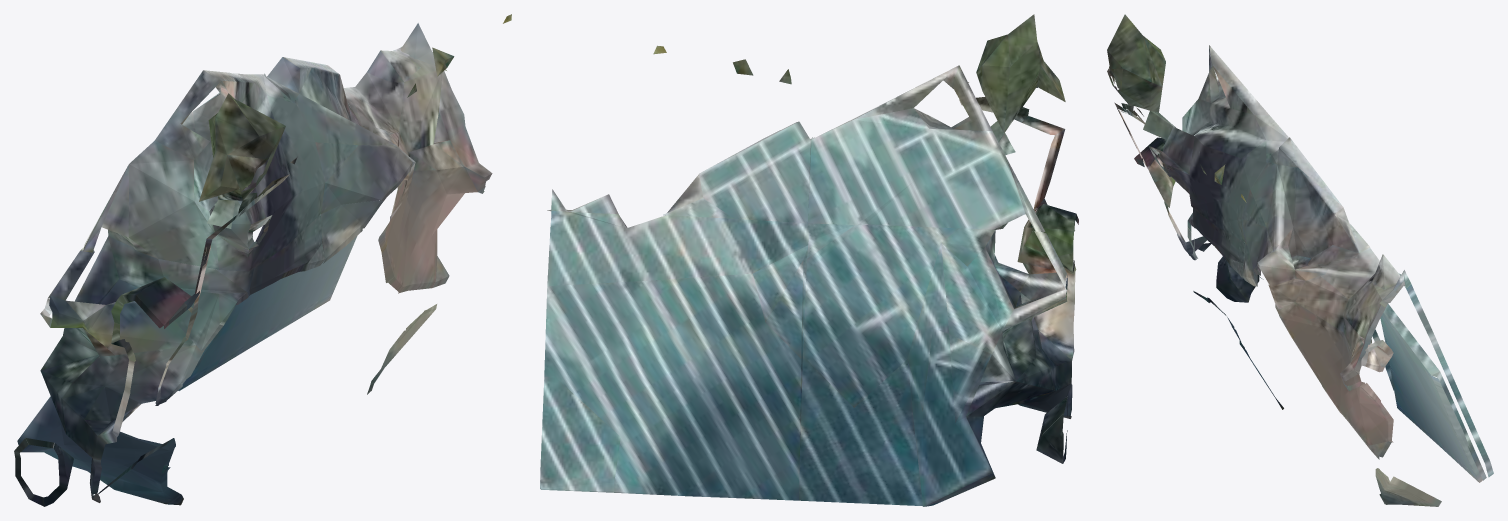
The model's file is AJVsH2wfIp2evZ7dvcl3jIcB1fm8jHz2ZJpCEV4RWAvKukdU6bj9J4GZnqO3EjtML10TwGIkM4Asqym2iY29AE9vIDwmOnXWCcJo3GrYyWuxd86dhjHvzEdkCZoEFWqcsGLNNXJWIvOu5T1MCHO_BIr-zYlT.glb.
3 views of the same model, side by side, from view 1: azimuth 30°, elevation 25°; view 2: azimuth 150°, elevation 25°; view 3: azimuth 270°, elevation 25° (orthographic). The views are drawn at different scales.
Bounding box in the file's own units: 35.89 × 32.53 × 30.29.
1 material, 1 textured.
